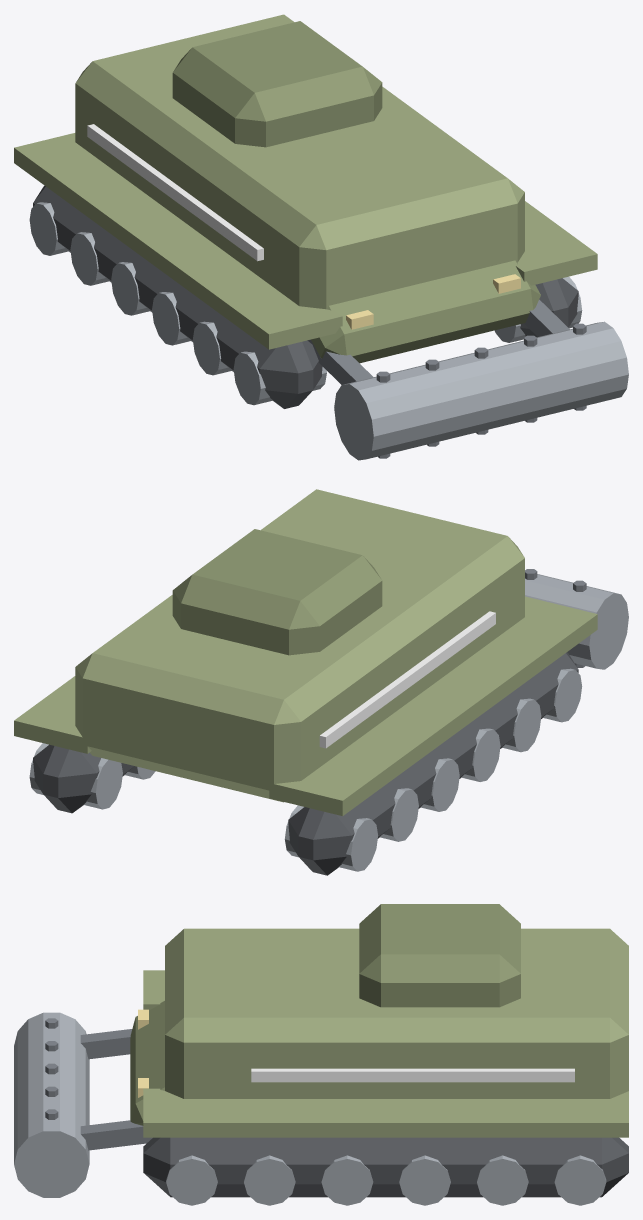
File: clearer.glb
3 views of the same model, one above another, from view 1: azimuth 30°, elevation 25°; view 2: azimuth 150°, elevation 25°; view 3: azimuth 270°, elevation 25° (orthographic). The views are drawn at different scales.
Visible parts, largest first — view 1: main; view 2: main; view 3: main.
Part boxes in pixels (x1,y1,x2,y2): main: (14, 14, 628, 460); main: (14, 489, 628, 875); main: (14, 904, 628, 1205).
Bounding box in the file's own units: 0.67 × 0.44 × 1.14.
